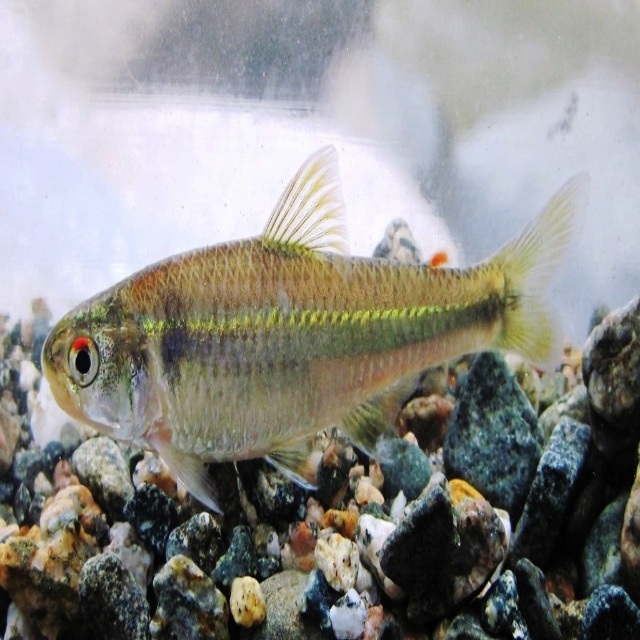Fish: (40, 142, 590, 512)
